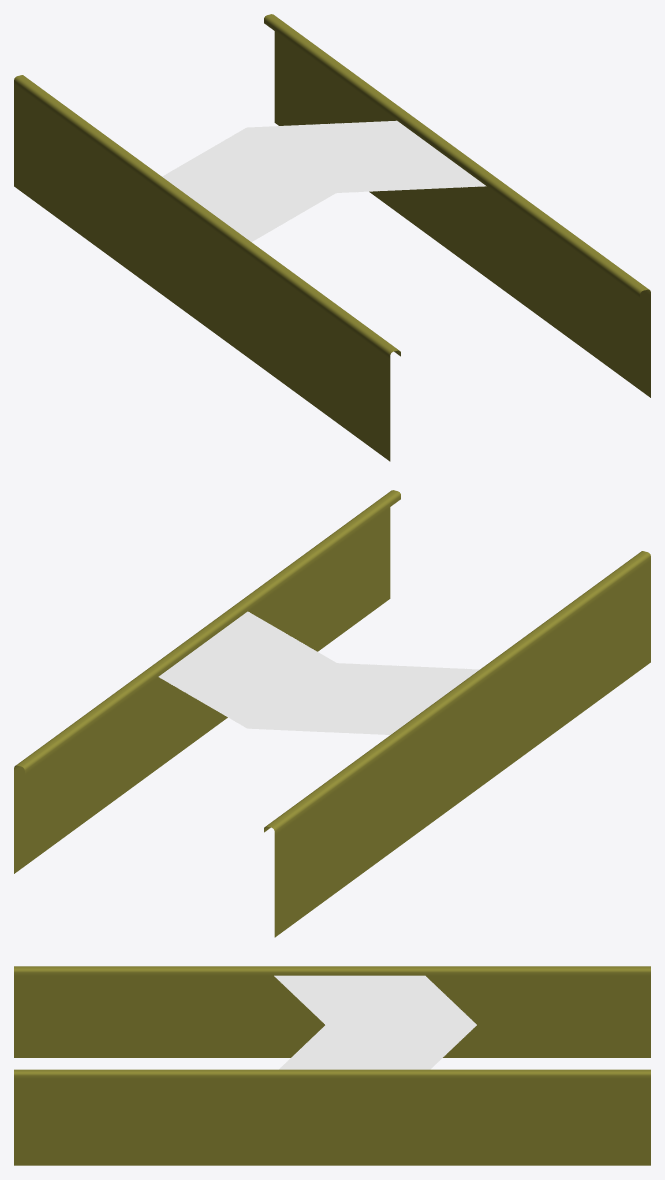
File: m_road.fbx
3 views of the same model, one above another, from view 1: azimuth 30°, elevation 25°; view 2: azimuth 150°, elevation 25°; view 3: azimuth 270°, elevation 25° (orthographic). The views are drawn at different scales.
Parts seen in each view (by area): view 1: m_road; view 2: m_road; view 3: m_road.
Part boxes in pixels (x1,y1,x2,y2): m_road: (14,14,650,461); m_road: (14,490,650,937); m_road: (14,966,650,1165).
Bounding box in the file's own units: 400 × 160 × 1000.
Materials: 2 (1 with a texture image).
